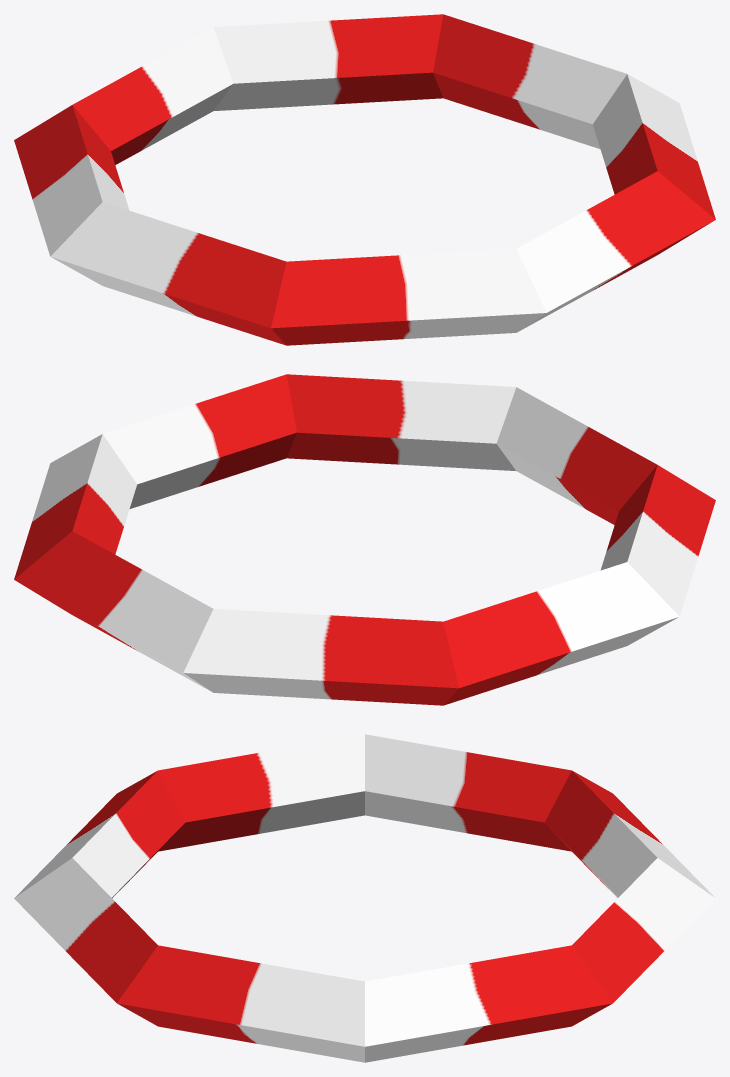
Rendered from Ring.dae.
3 views of the same model, one above another, from view 1: azimuth 30°, elevation 25°; view 2: azimuth 150°, elevation 25°; view 3: azimuth 270°, elevation 25° (orthographic). The views are drawn at different scales.
Visible parts, largest first — view 1: Ring; view 2: Ring; view 3: Ring.
Boxes of the visible parts, box(x1,y1,x2,y2) form: Ring: box(14, 14, 715, 345); Ring: box(14, 374, 715, 705); Ring: box(14, 734, 715, 1062).
Size of the model in its own units: 8.52 by 1.09 by 8.52.
Materials: 1 (1 with a texture image).
